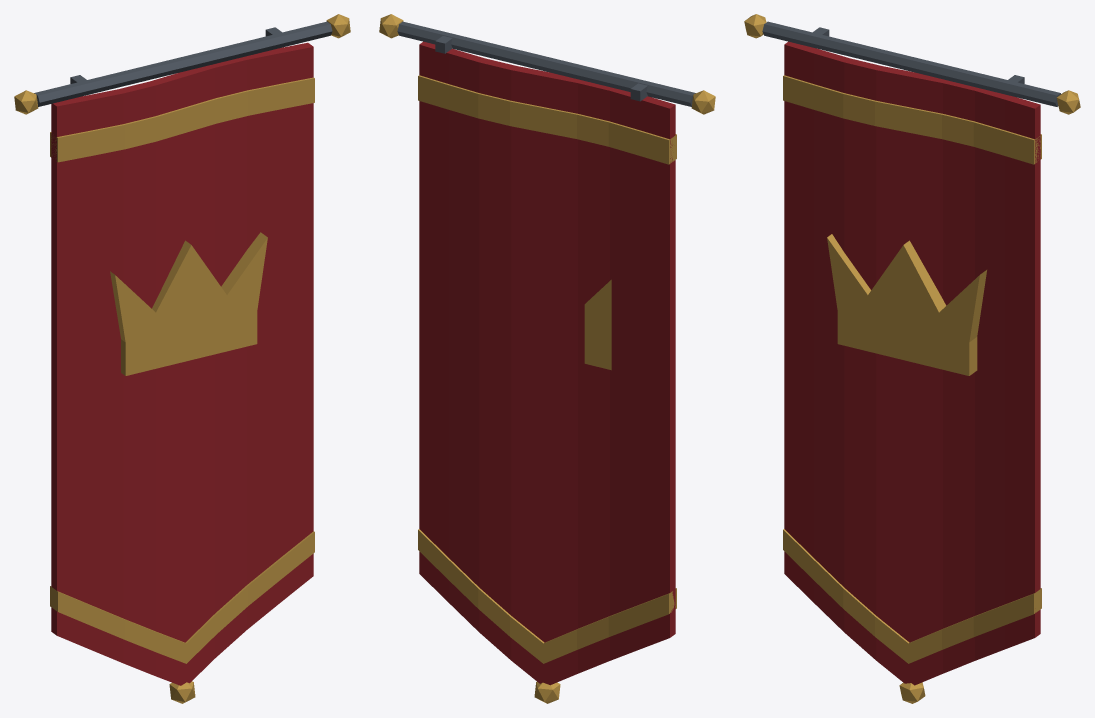
File: Castle_Banner.fbx
3 renders of one model, left to right at view 1: azimuth 30°, elevation 25°; view 2: azimuth 150°, elevation 25°; view 3: azimuth 330°, elevation 25°, orthographic.
Parts seen in each view (by area): view 1: Cloth, Gold, Rod; view 2: Cloth, Gold, Rod; view 3: Cloth, Gold, Rod.
Boxes of the visible parts, <box> form: Cloth: <box>51,42,313,685</box>; Gold: <box>14,14,350,703</box>; Rod: <box>34,21,332,106</box>; Cloth: <box>419,41,675,685</box>; Gold: <box>379,14,715,703</box>; Rod: <box>397,21,695,106</box>; Cloth: <box>784,41,1040,685</box>; Gold: <box>744,14,1080,703</box>; Rod: <box>762,21,1060,106</box>.
Bounding box in the file's own units: 3.41 × 6.38 × 0.33.
